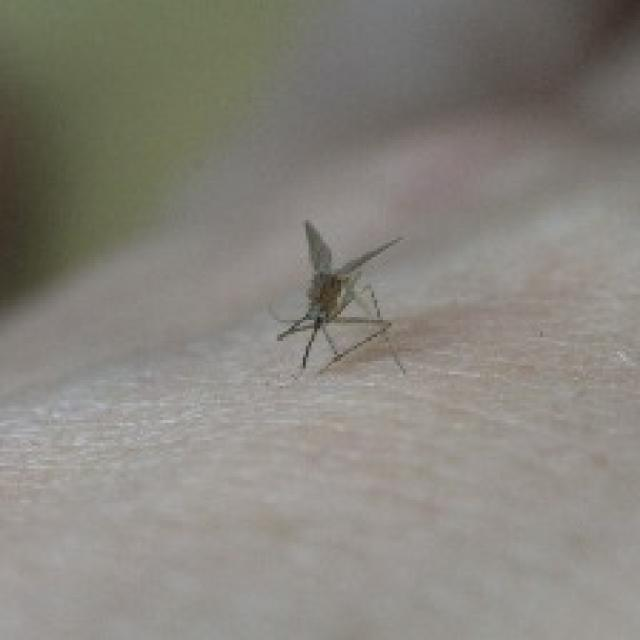culex: (268, 217, 406, 377)
